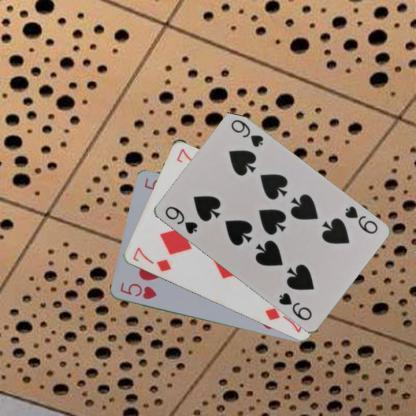5h: (117, 280, 158, 302)
7d: (129, 244, 173, 274)
9s: (341, 202, 379, 236), (162, 203, 199, 236)
